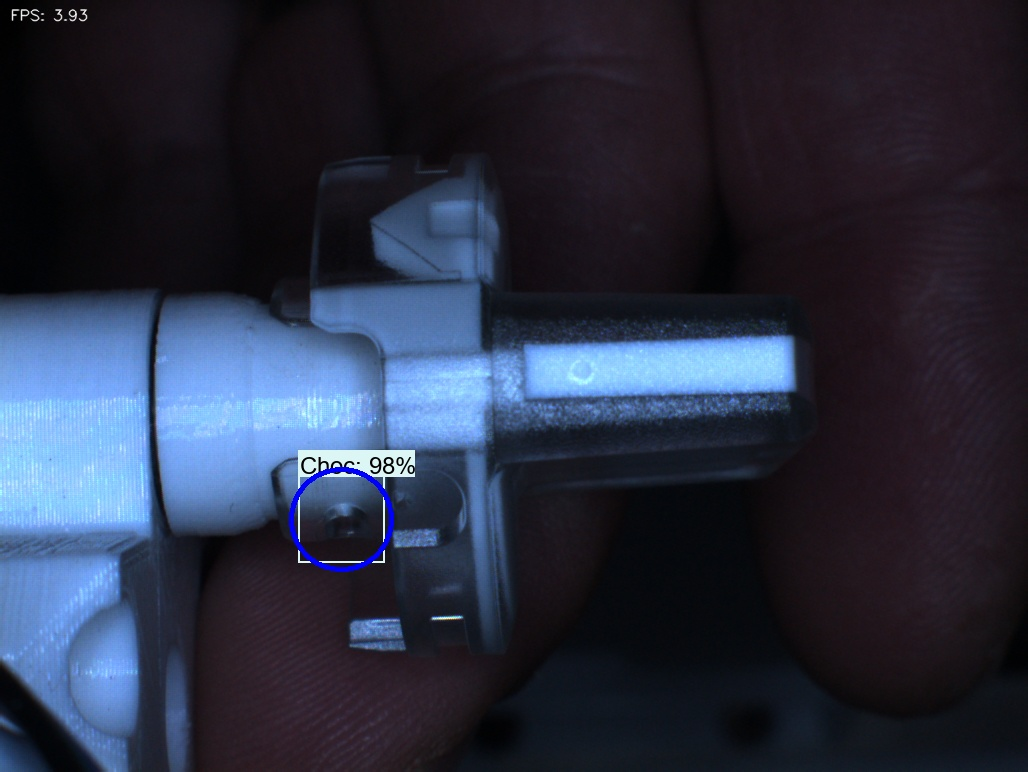DentOk: (347, 187, 412, 285)
